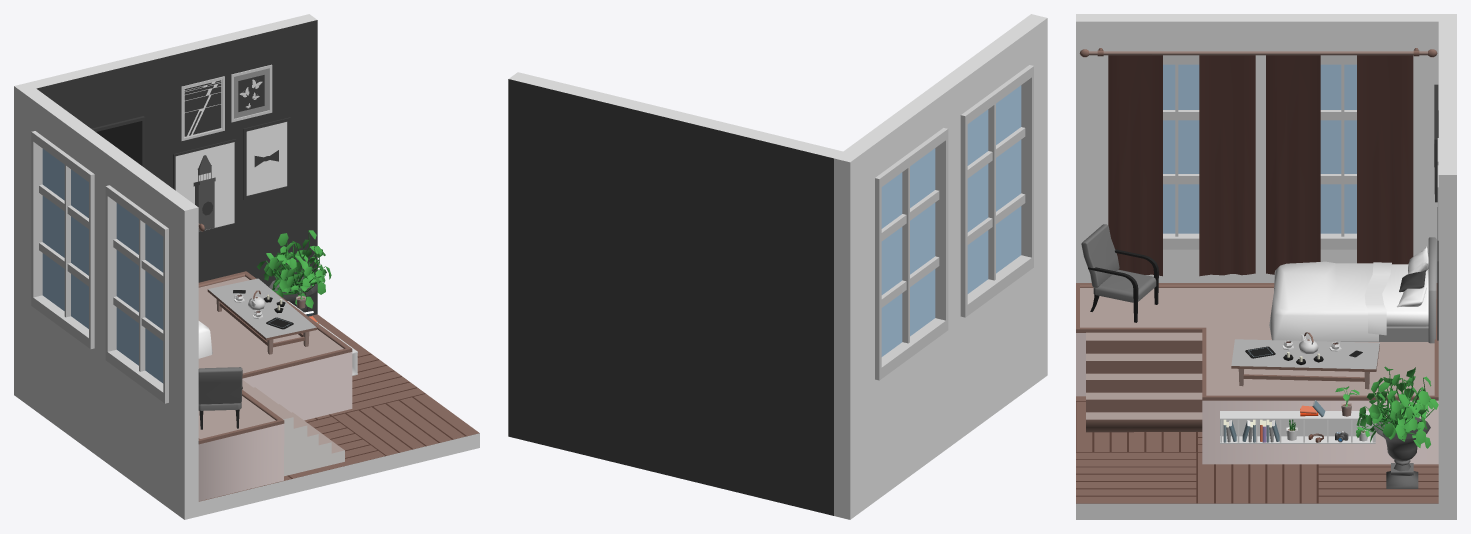
File: room_22.glb
3 renders of one model, left to right at view 1: azimuth 30°, elevation 25°; view 2: azimuth 150°, elevation 25°; view 3: azimuth 270°, elevation 25°, orthographic. The views are drawn at different scales.
Parts seen in each view (by area): view 1: Walls_011.011, floor_021.001, Walls_006.042, window_020.001, window_020.002, Walls_006.041, floor_019.002, Walls_006.040, Walls_056.006, Walls_006.043, picture_001.003, picture_013.003 (+7 smaller); view 2: Walls_011.011, Walls_006.042, window_020.001, window_020.002, Walls_006.040, Walls_006.043, Walls_006.041, Walls_006.044; view 3: floor_021.001, floor_019.002, bed_015.002, Curtains_019.002, Curtains_019.004, Curtains_019.003, Curtains_019.001, Walls_006.043, Walls_056.006, Walls_011.011, Walls_006.041, window_020.001 (+10 smaller).
Boxes of the visible parts, box(x1,y1,x2,y2) form: Walls_011.011: box(28, 14, 317, 315); floor_021.001: box(198, 271, 352, 501); Walls_006.042: box(36, 310, 168, 507); window_020.001: box(105, 185, 168, 403); window_020.002: box(31, 131, 94, 348); Walls_006.041: box(168, 195, 198, 519); floor_019.002: box(199, 314, 479, 501); Walls_006.040: box(14, 82, 49, 410); Walls_056.006: box(198, 353, 479, 516); Walls_006.043: box(36, 99, 181, 227); picture_001.003: box(173, 139, 236, 234); picture_013.003: box(243, 117, 290, 200); Walls_011.011: box(508, 72, 842, 515); Walls_006.042: box(876, 271, 1028, 500); window_020.001: box(960, 65, 1033, 317); window_020.002: box(875, 128, 948, 380); Walls_006.040: box(834, 139, 875, 519); Walls_006.043: box(860, 28, 1028, 176); Walls_006.041: box(1012, 14, 1047, 388); Walls_006.044: box(948, 124, 960, 319); floor_021.001: box(1076, 283, 1438, 464); floor_019.002: box(1076, 396, 1438, 503); bed_015.002: box(1269, 237, 1436, 343); Curtains_019.002: box(1199, 55, 1255, 276); Curtains_019.004: box(1357, 55, 1413, 264); Curtains_019.003: box(1266, 55, 1320, 274); Curtains_019.001: box(1108, 55, 1162, 276); Walls_006.043: box(1112, 14, 1406, 62); Walls_056.006: box(1076, 401, 1438, 519); Walls_011.011: box(1438, 21, 1456, 519); Walls_006.041: box(1076, 14, 1112, 282); window_020.001: box(1163, 55, 1199, 249).
Bounding box in the file's own units: 4.26 × 4.2 × 4.2.
1 material, 1 textured.
